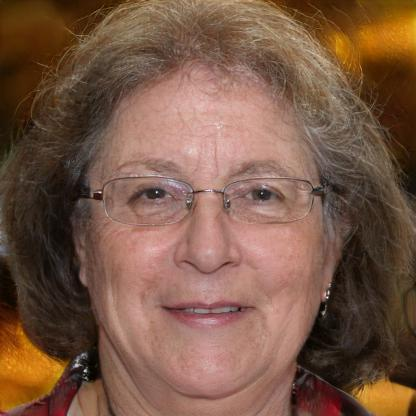glasses: (92, 169, 322, 228)
